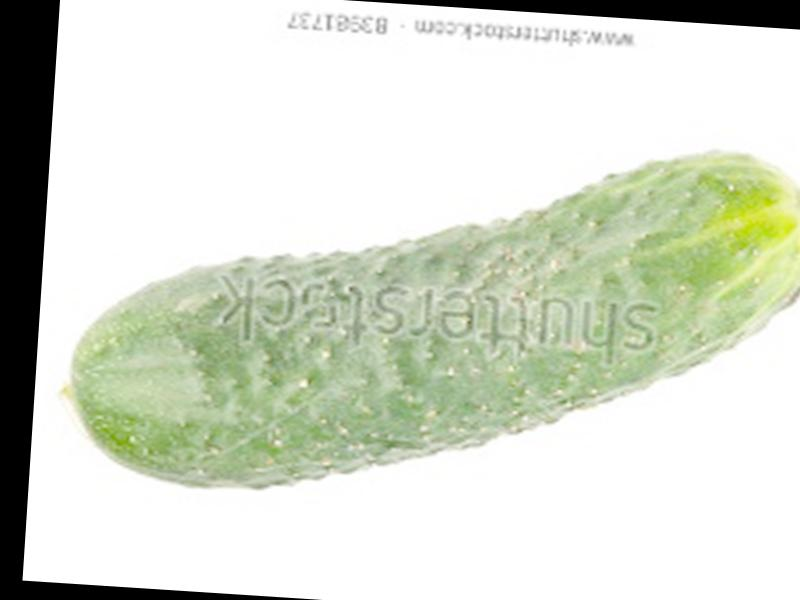Cucumber: (60, 112, 800, 526)
